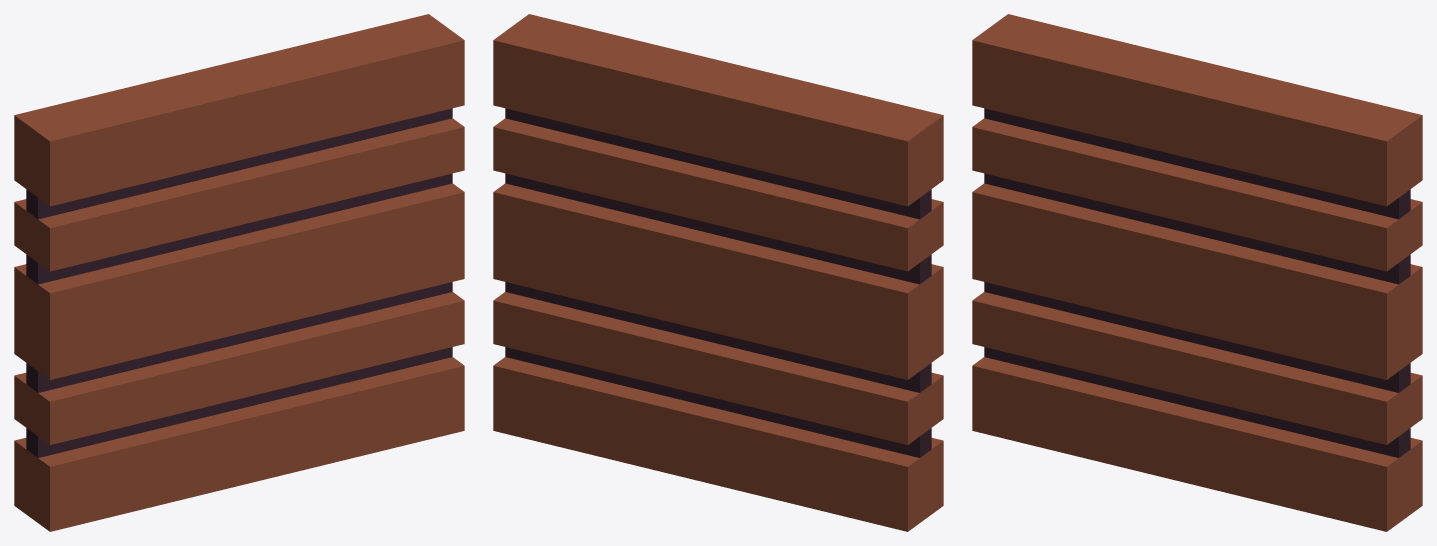
The model's file is wallobject.obj.
The picture shows the model from 3 angles, left to right: view 1: azimuth 30°, elevation 25°; view 2: azimuth 150°, elevation 25°; view 3: azimuth 330°, elevation 25°; orthographic projection.
Size of the model in its own units: 20 by 18 by 3.
